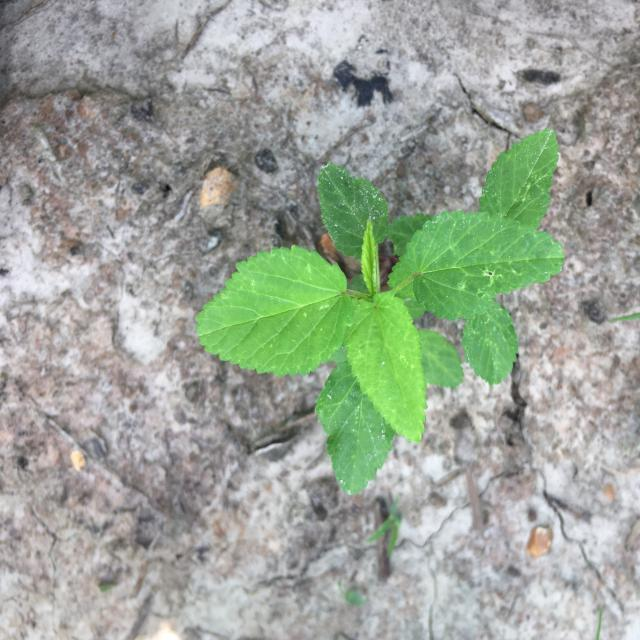PricklySida: (194, 128, 566, 496)
